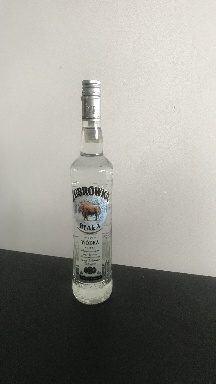butelka: (68, 76, 114, 307)
